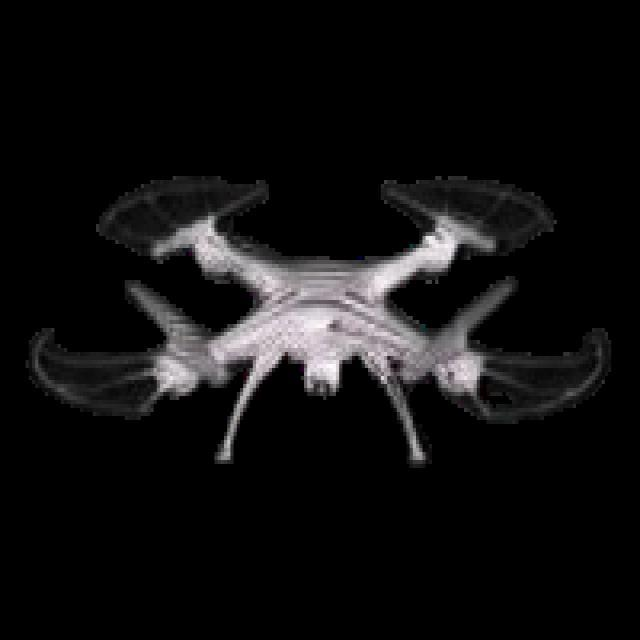drone: (23, 80, 622, 533)
